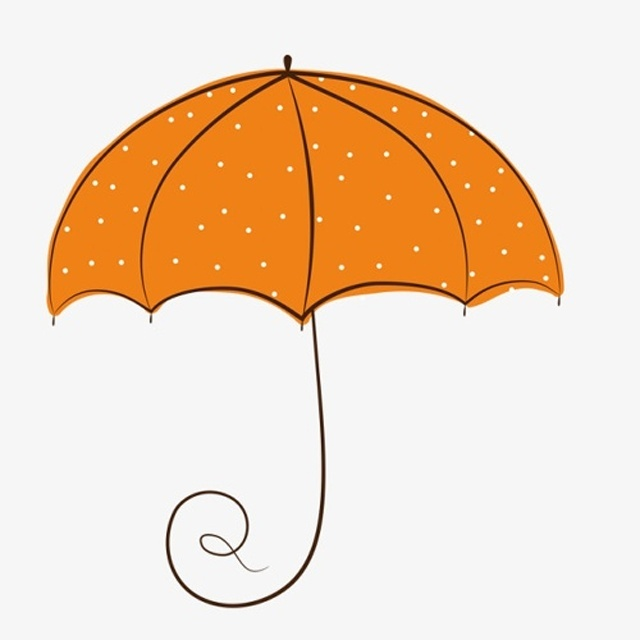umbrella: (36, 42, 573, 616)
